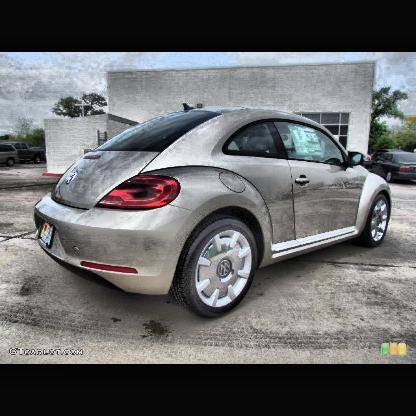Volkswagen Beetle Hatchback 2012: (40, 109, 392, 318)
